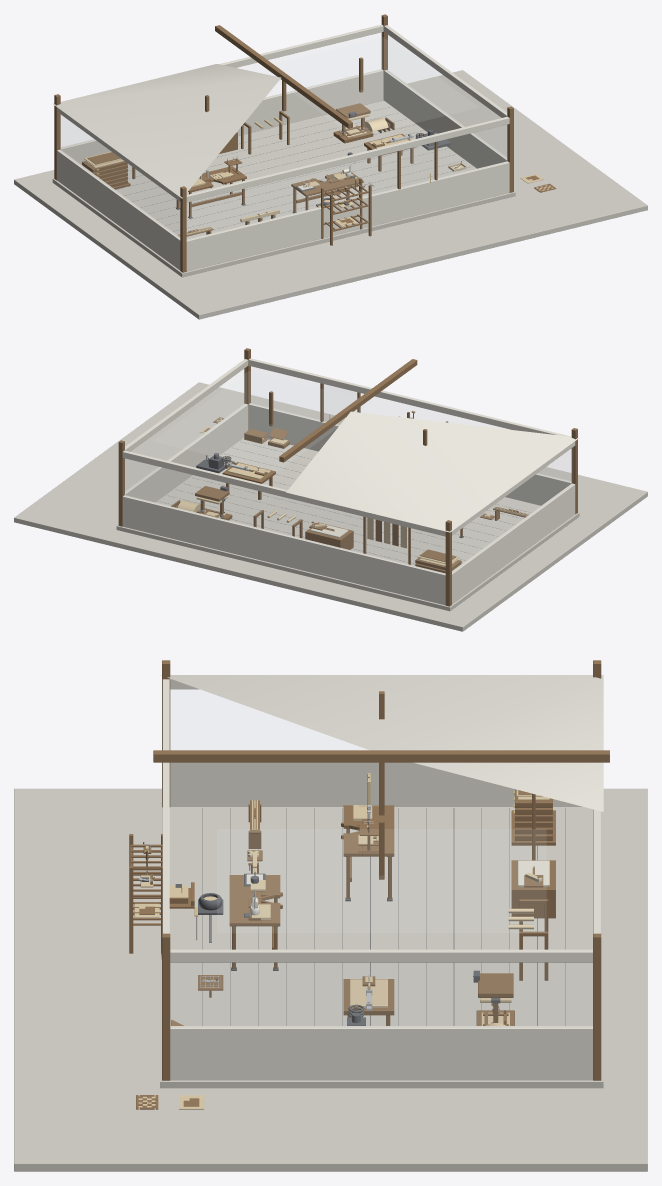
The model's file is marquetry-and-veneer-inlay-workshop-busy-e0c66a26-starter-scene__39133.glb.
3 views of the same model, one above another, from view 1: azimuth 30°, elevation 25°; view 2: azimuth 150°, elevation 25°; view 3: azimuth 270°, elevation 25° (orthographic). The views are drawn at different scales.
Visible parts, largest first — view 1: 001-roofed-inlay-atelier/2, 000-atelier-floor-base/0, 001-roofed-inlay-atelier/0, 001-roofed-inlay-atelier/3, 001-roofed-inlay-atelier/1, 049-panel-drying-comb-rack/0, 002-flat-veneer-leaf-storage-cabinet/0, 017-packet-cutting-bench-with-birdsmouth/0, 008-packet-cutting-bench-with-birdsmouth/0, 001-roofed-inlay-atelier/5, 032-twin-screw-platen-press/0; view 2: 001-roofed-inlay-atelier/2, 000-atelier-floor-base/0, 001-roofed-inlay-atelier/0, 001-roofed-inlay-atelier/3, 001-roofed-inlay-atelier/1, 004-veneer-inspection-light-table/0, 003-hanging-veneer-flitch-rack/0, 032-twin-screw-platen-press/0, 002-flat-veneer-leaf-storage-cabinet/0, 001-roofed-inlay-atelier/5, 003-hanging-veneer-flitch-rack/1; view 3: 000-atelier-floor-base/0, 001-roofed-inlay-atelier/0, 001-roofed-inlay-atelier/2, 001-roofed-inlay-atelier/1, 001-roofed-inlay-atelier/5, 017-packet-cutting-bench-with-birdsmouth/0, 008-packet-cutting-bench-with-birdsmouth/0, 049-panel-drying-comb-rack/0, 002-flat-veneer-leaf-storage-cabinet/0, 004-veneer-inspection-light-table/0, 032-twin-screw-platen-press/0, 037-vacuum-bag-pressing-table/1 (+2 smaller).
Boxes of the visible parts, x1,y1,x2,y2 form: 001-roofed-inlay-atelier/2: [53, 24, 509, 271]; 000-atelier-floor-base/0: [14, 70, 647, 319]; 001-roofed-inlay-atelier/0: [52, 100, 515, 277]; 001-roofed-inlay-atelier/3: [60, 37, 507, 187]; 001-roofed-inlay-atelier/1: [54, 14, 513, 272]; 049-panel-drying-comb-rack/0: [321, 178, 371, 245]; 002-flat-veneer-leaf-storage-cabinet/0: [82, 152, 130, 189]; 017-packet-cutting-bench-with-birdsmouth/0: [291, 171, 363, 212]; 008-packet-cutting-bench-with-birdsmouth/0: [176, 166, 246, 217]; 001-roofed-inlay-atelier/5: [117, 107, 469, 231]; 032-twin-screw-platen-press/0: [333, 103, 373, 143]; 001-roofed-inlay-atelier/2: [122, 358, 579, 605]; 000-atelier-floor-base/0: [14, 382, 647, 631]; 001-roofed-inlay-atelier/0: [116, 437, 579, 611]; 001-roofed-inlay-atelier/3: [125, 371, 571, 492]; 001-roofed-inlay-atelier/1: [118, 348, 577, 606]; 004-veneer-inspection-light-table/0: [305, 522, 353, 549]; 003-hanging-veneer-flitch-rack/0: [363, 516, 410, 564]; 032-twin-screw-platen-press/0: [195, 486, 232, 520]; 002-flat-veneer-leaf-storage-cabinet/0: [415, 549, 461, 573]; 001-roofed-inlay-atelier/5: [160, 441, 531, 563]; 003-hanging-veneer-flitch-rack/1: [367, 517, 406, 548]; 000-atelier-floor-base/0: [14, 788, 647, 1171]; 001-roofed-inlay-atelier/0: [160, 803, 603, 1088]; 001-roofed-inlay-atelier/2: [161, 675, 603, 1080]; 001-roofed-inlay-atelier/1: [153, 660, 609, 1080]; 001-roofed-inlay-atelier/5: [202, 808, 565, 1025]; 017-packet-cutting-bench-with-birdsmouth/0: [229, 875, 282, 968]; 008-packet-cutting-bench-with-birdsmouth/0: [341, 805, 394, 899]; 049-panel-drying-comb-rack/0: [129, 834, 162, 953]; 002-flat-veneer-leaf-storage-cabinet/0: [511, 789, 555, 845]; 004-veneer-inspection-light-table/0: [511, 860, 555, 918]; 032-twin-screw-platen-press/0: [476, 973, 514, 1025]; 037-vacuum-bag-pressing-table/1: [350, 979, 387, 1007].
Bounding box in the file's own units: 14 × 3.57 × 10.
